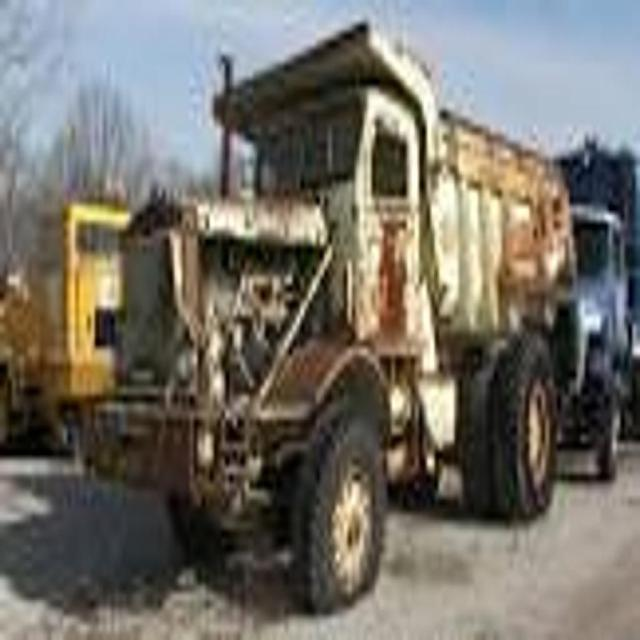dump_truck: (84, 29, 577, 606)
